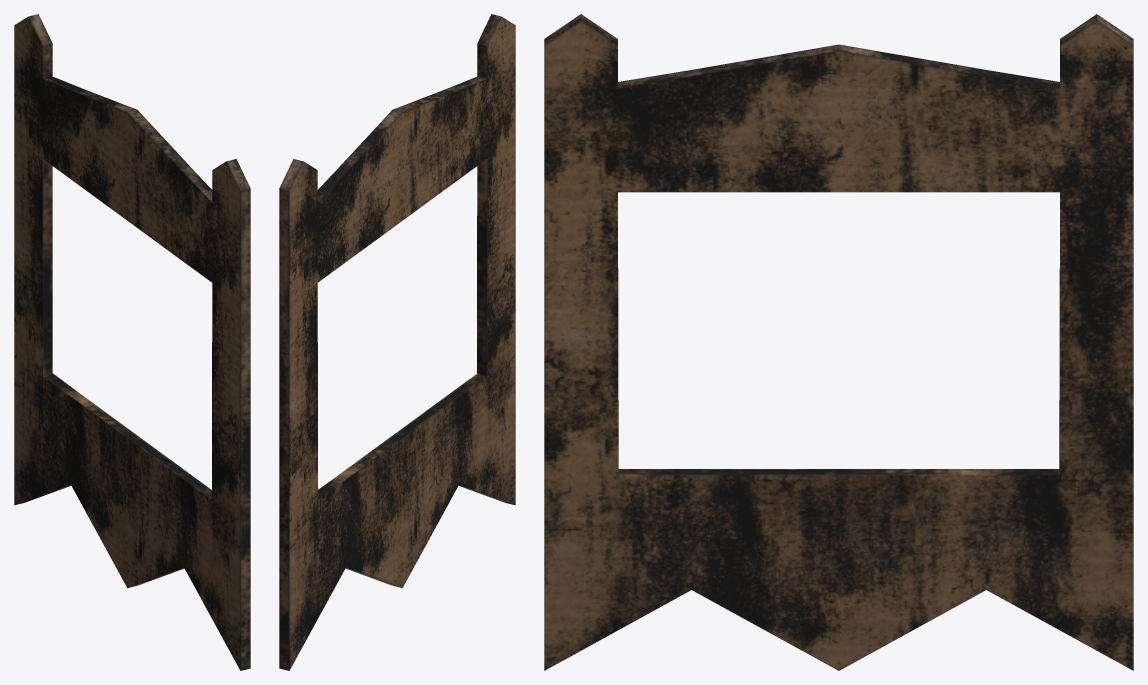
Rendered from Teatro_Delante.fbx.
The picture shows the model from 3 angles, left to right: view 1: azimuth 30°, elevation 25°; view 2: azimuth 150°, elevation 25°; view 3: azimuth 270°, elevation 25°; orthographic projection. The views are drawn at different scales.
Visible parts, largest first — view 1: teatro_delante_low; view 2: teatro_delante_low; view 3: teatro_delante_low.
Part boxes in pixels (x1,y1,x2,y2): teatro_delante_low: (14,14,250,670); teatro_delante_low: (279,14,515,670); teatro_delante_low: (544,14,1133,670).
Size of the model in its own units: 42.04 by 1971 by 1618.
